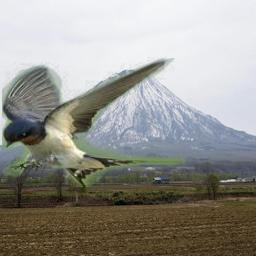Swallow: (2, 57, 185, 187)
